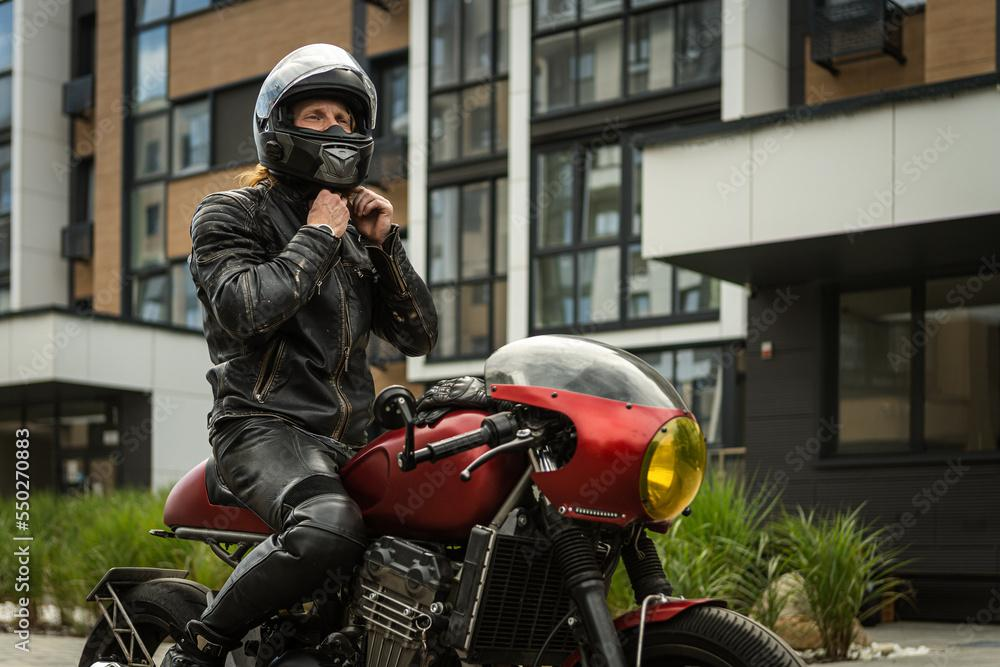helmet: (252, 42, 379, 190)
